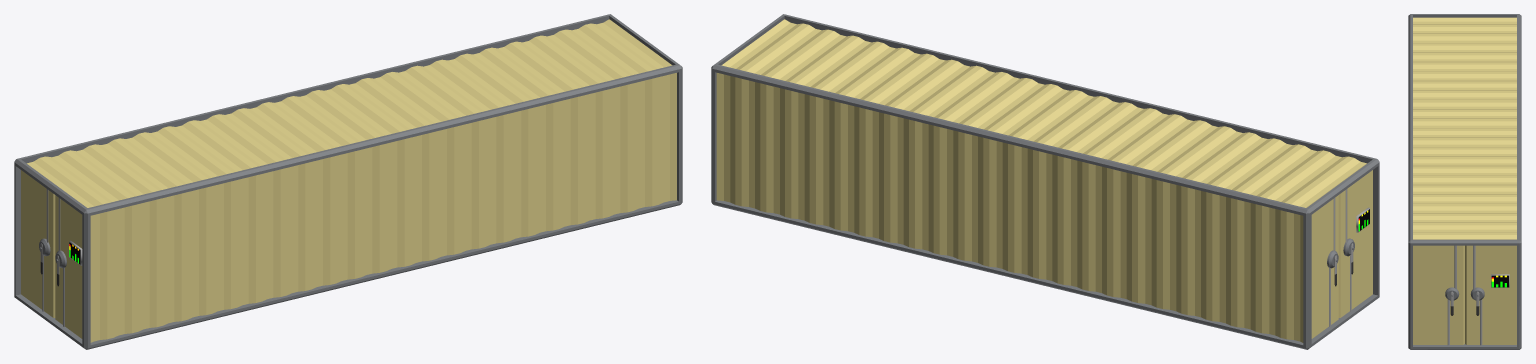
Rendered from prop_container40ft.fbx.
The picture shows the model from 3 angles, left to right: view 1: azimuth 30°, elevation 25°; view 2: azimuth 150°, elevation 25°; view 3: azimuth 270°, elevation 25°; orthographic projection. The views are drawn at different scales.
Visible parts, largest first — view 1: Container; view 2: Container; view 3: Container, pCylinder4, LockbarBottom, screen, LockbarTop, Handle.
Boxes of the visible parts, x1,y1,x2,y2 form: Container: (14, 14, 682, 349); Container: (711, 14, 1379, 349); Container: (1408, 14, 1521, 349); pCylinder4: (1445, 287, 1484, 300); LockbarBottom: (1447, 299, 1482, 345); screen: (1491, 274, 1509, 287); LockbarTop: (1454, 245, 1475, 289); Handle: (1450, 291, 1479, 315).
Size of the model in its own units: 1159 by 259 by 243.
